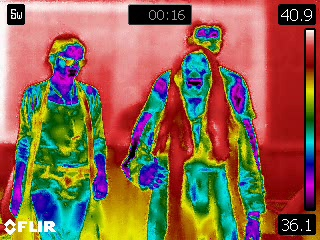human: (129, 23, 273, 188), (4, 32, 112, 219), (169, 49, 249, 240)
